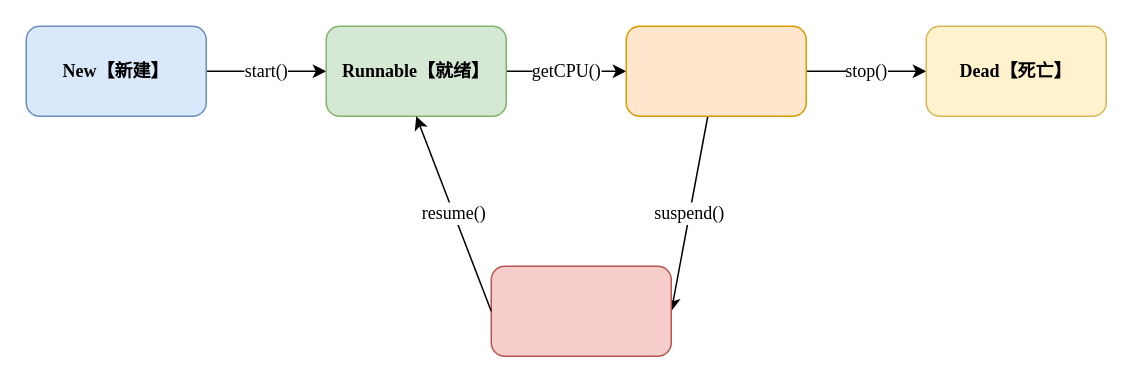
The diagram is 1133 pixels wide and 383 high, and some of its shapes have lost their labels. Here are the shapes that lost their labels. From the top down, the centre of each, then its label:
At point 715,70: "Running【运行】".
At point 580,310: "Blocked【阻塞】".
